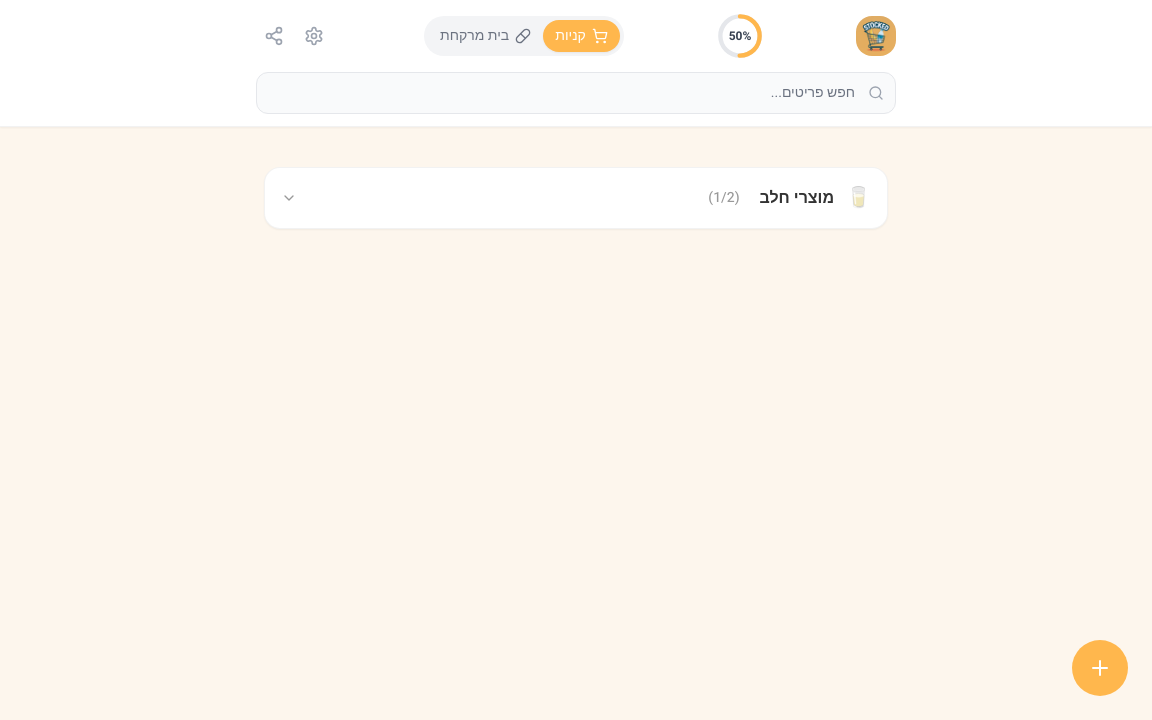
HomeScreen - Detailed Tests › Search Functionality › clears search when toggling item in search results
// Type a search query
Type "חלב" into the field with placeholder "חפש פריטים..." at (576,93), box [256,72,896,114]
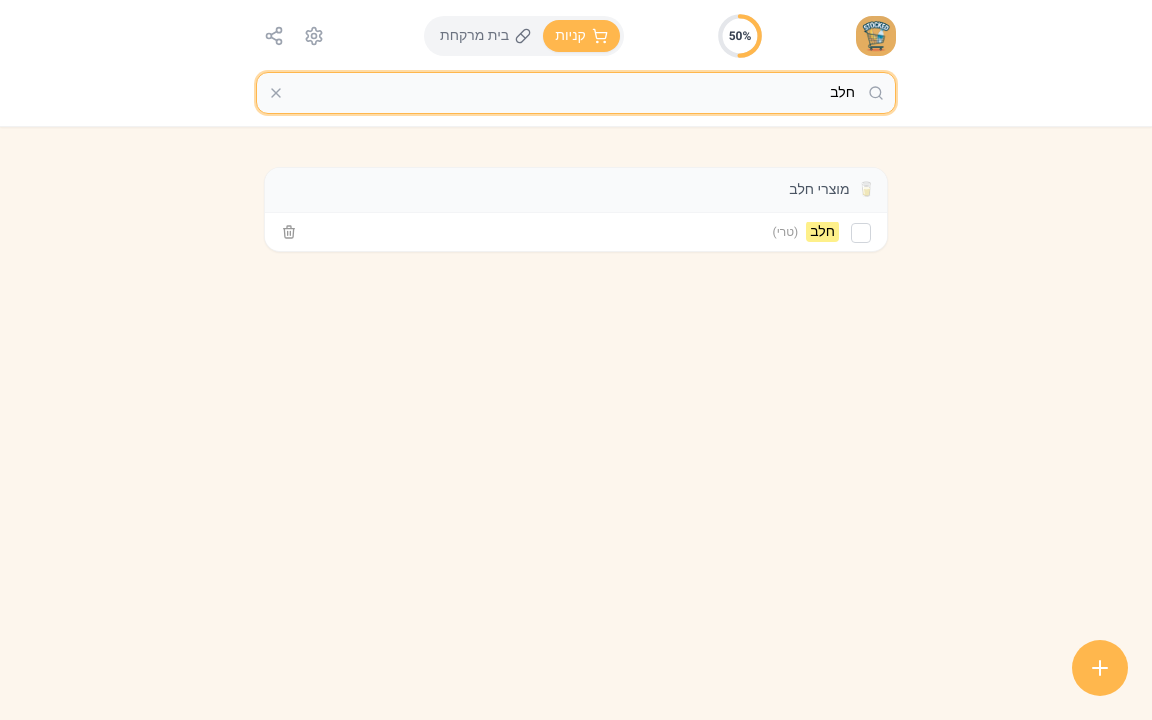
Expected: the text "חלב" is shown, [806,222,839,242]
Expected: the 7th button is shown
Click the 7th button at (861,233), box [851,223,871,243]
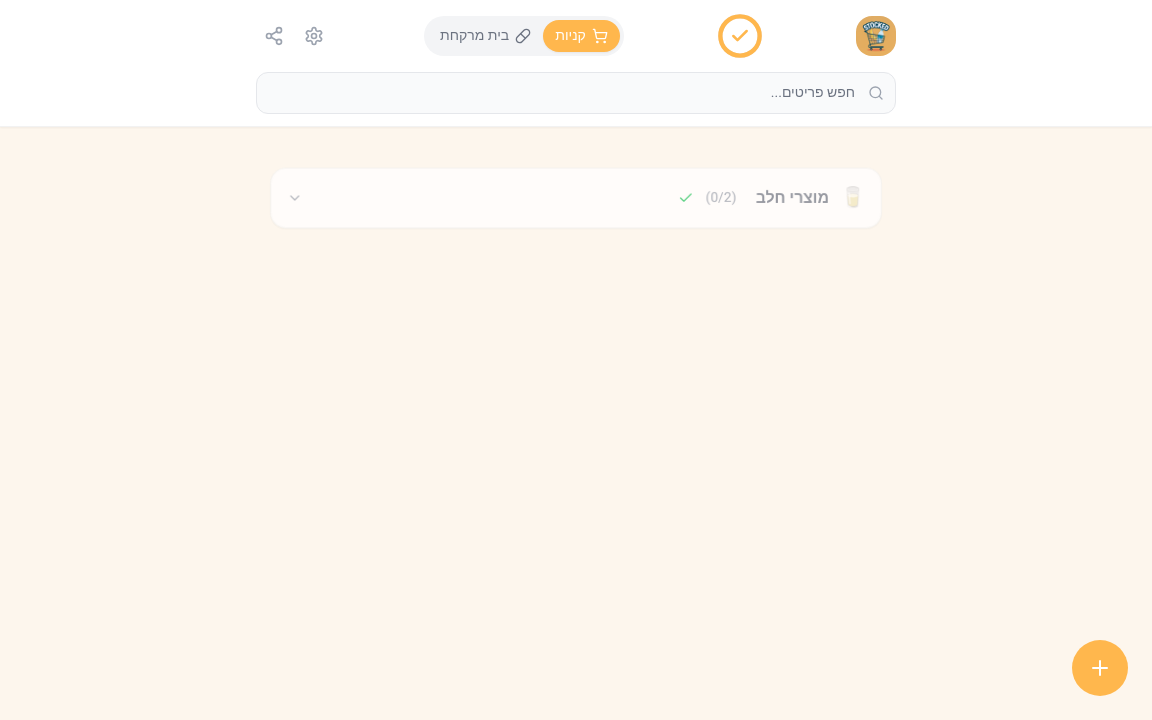
Expected: the field with placeholder "חפש פריטים..." is empty, [256,72,896,114]
